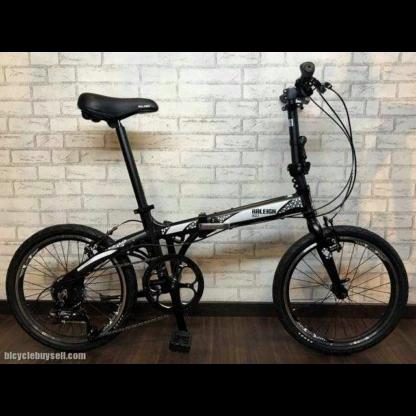Bicycle: (0, 51, 415, 354)
